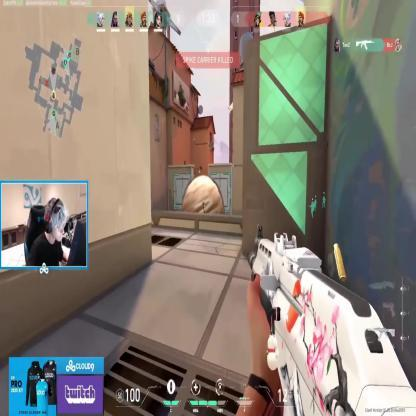enemy: (200, 200, 206, 216)
enemy_head: (202, 200, 204, 204)
